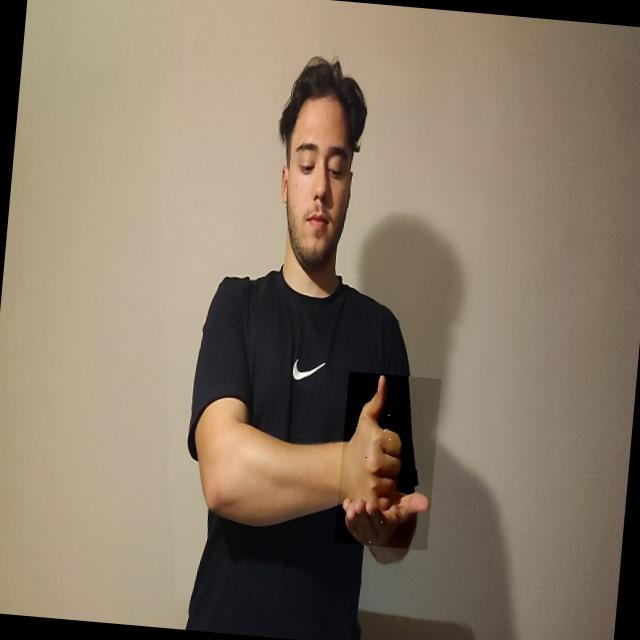help: (334, 370, 443, 550)
